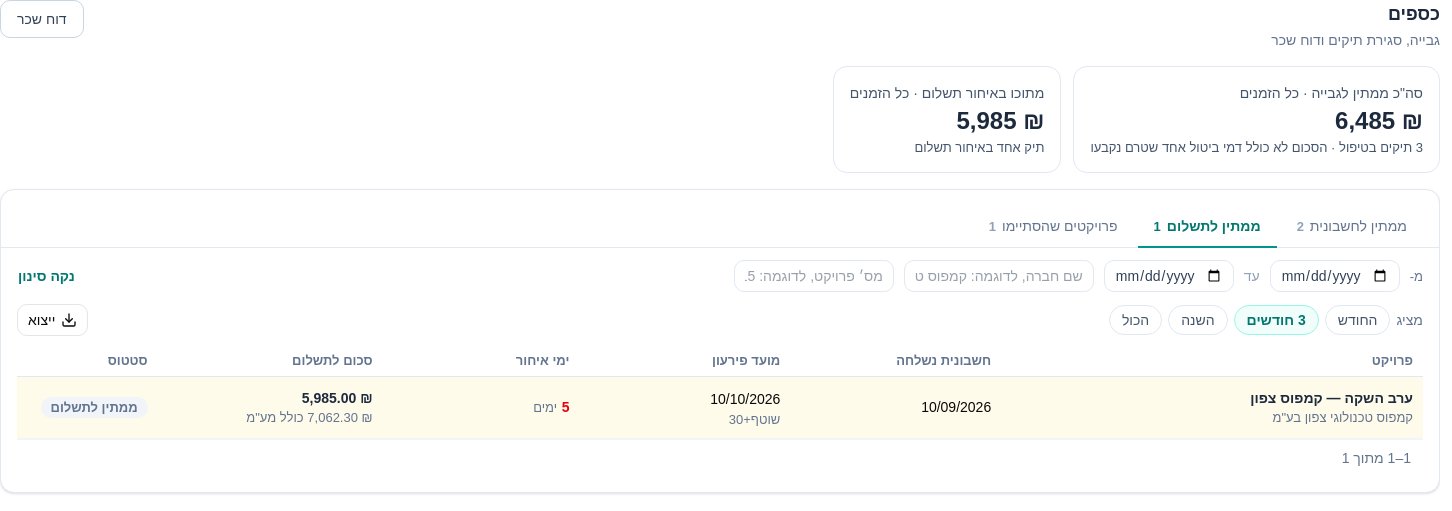
Test: S1 — לשונית "פרויקטים שהסתיימו" (#13) › רווח סופי: % כערך-ראשי ו-₪ בשורת-משנה (§7.52)
Expected: the table with test id "finance-table" is shown, top-left (17, 346), bottom-right (1423, 439)
Click the tab with test id "finance-tab-finished". click: (1053, 227)
box: top-left (973, 206), bottom-right (1134, 248)
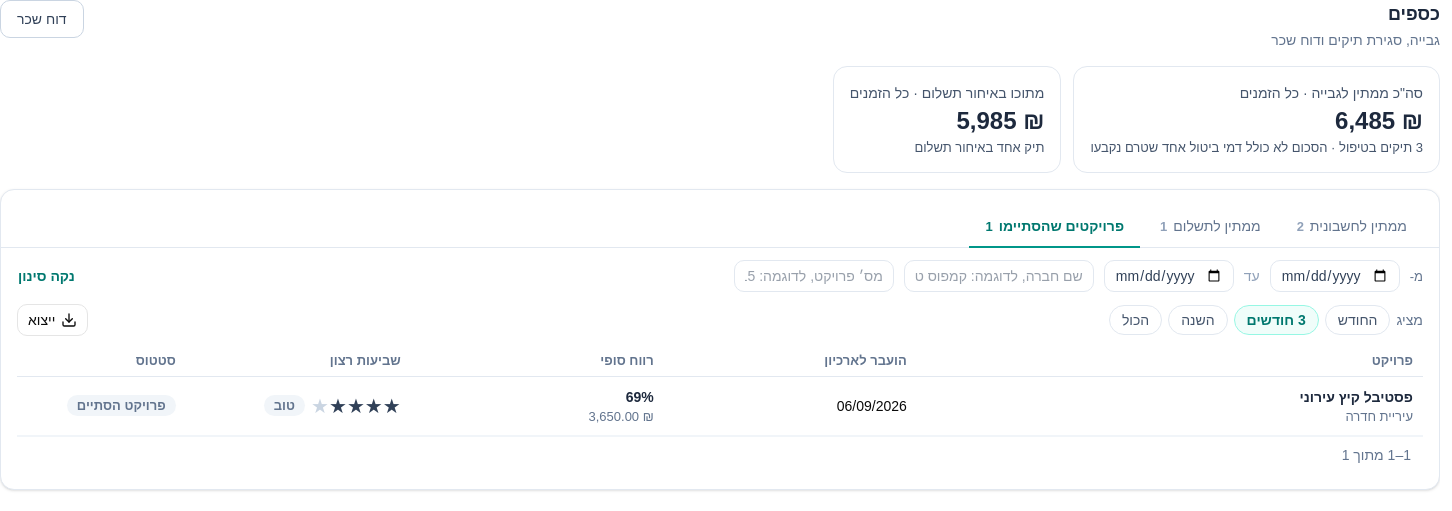
Now the row with test id "finance-row-13" shows "69%", box top-left (626, 389), bottom-right (654, 405)
Now the row with test id "finance-row-13" shows "3,650.00 ₪", box top-left (588, 409), bottom-right (654, 424)
Now the row with test id "finance-row-13" shows "06/09/2026", box top-left (837, 398), bottom-right (907, 414)
